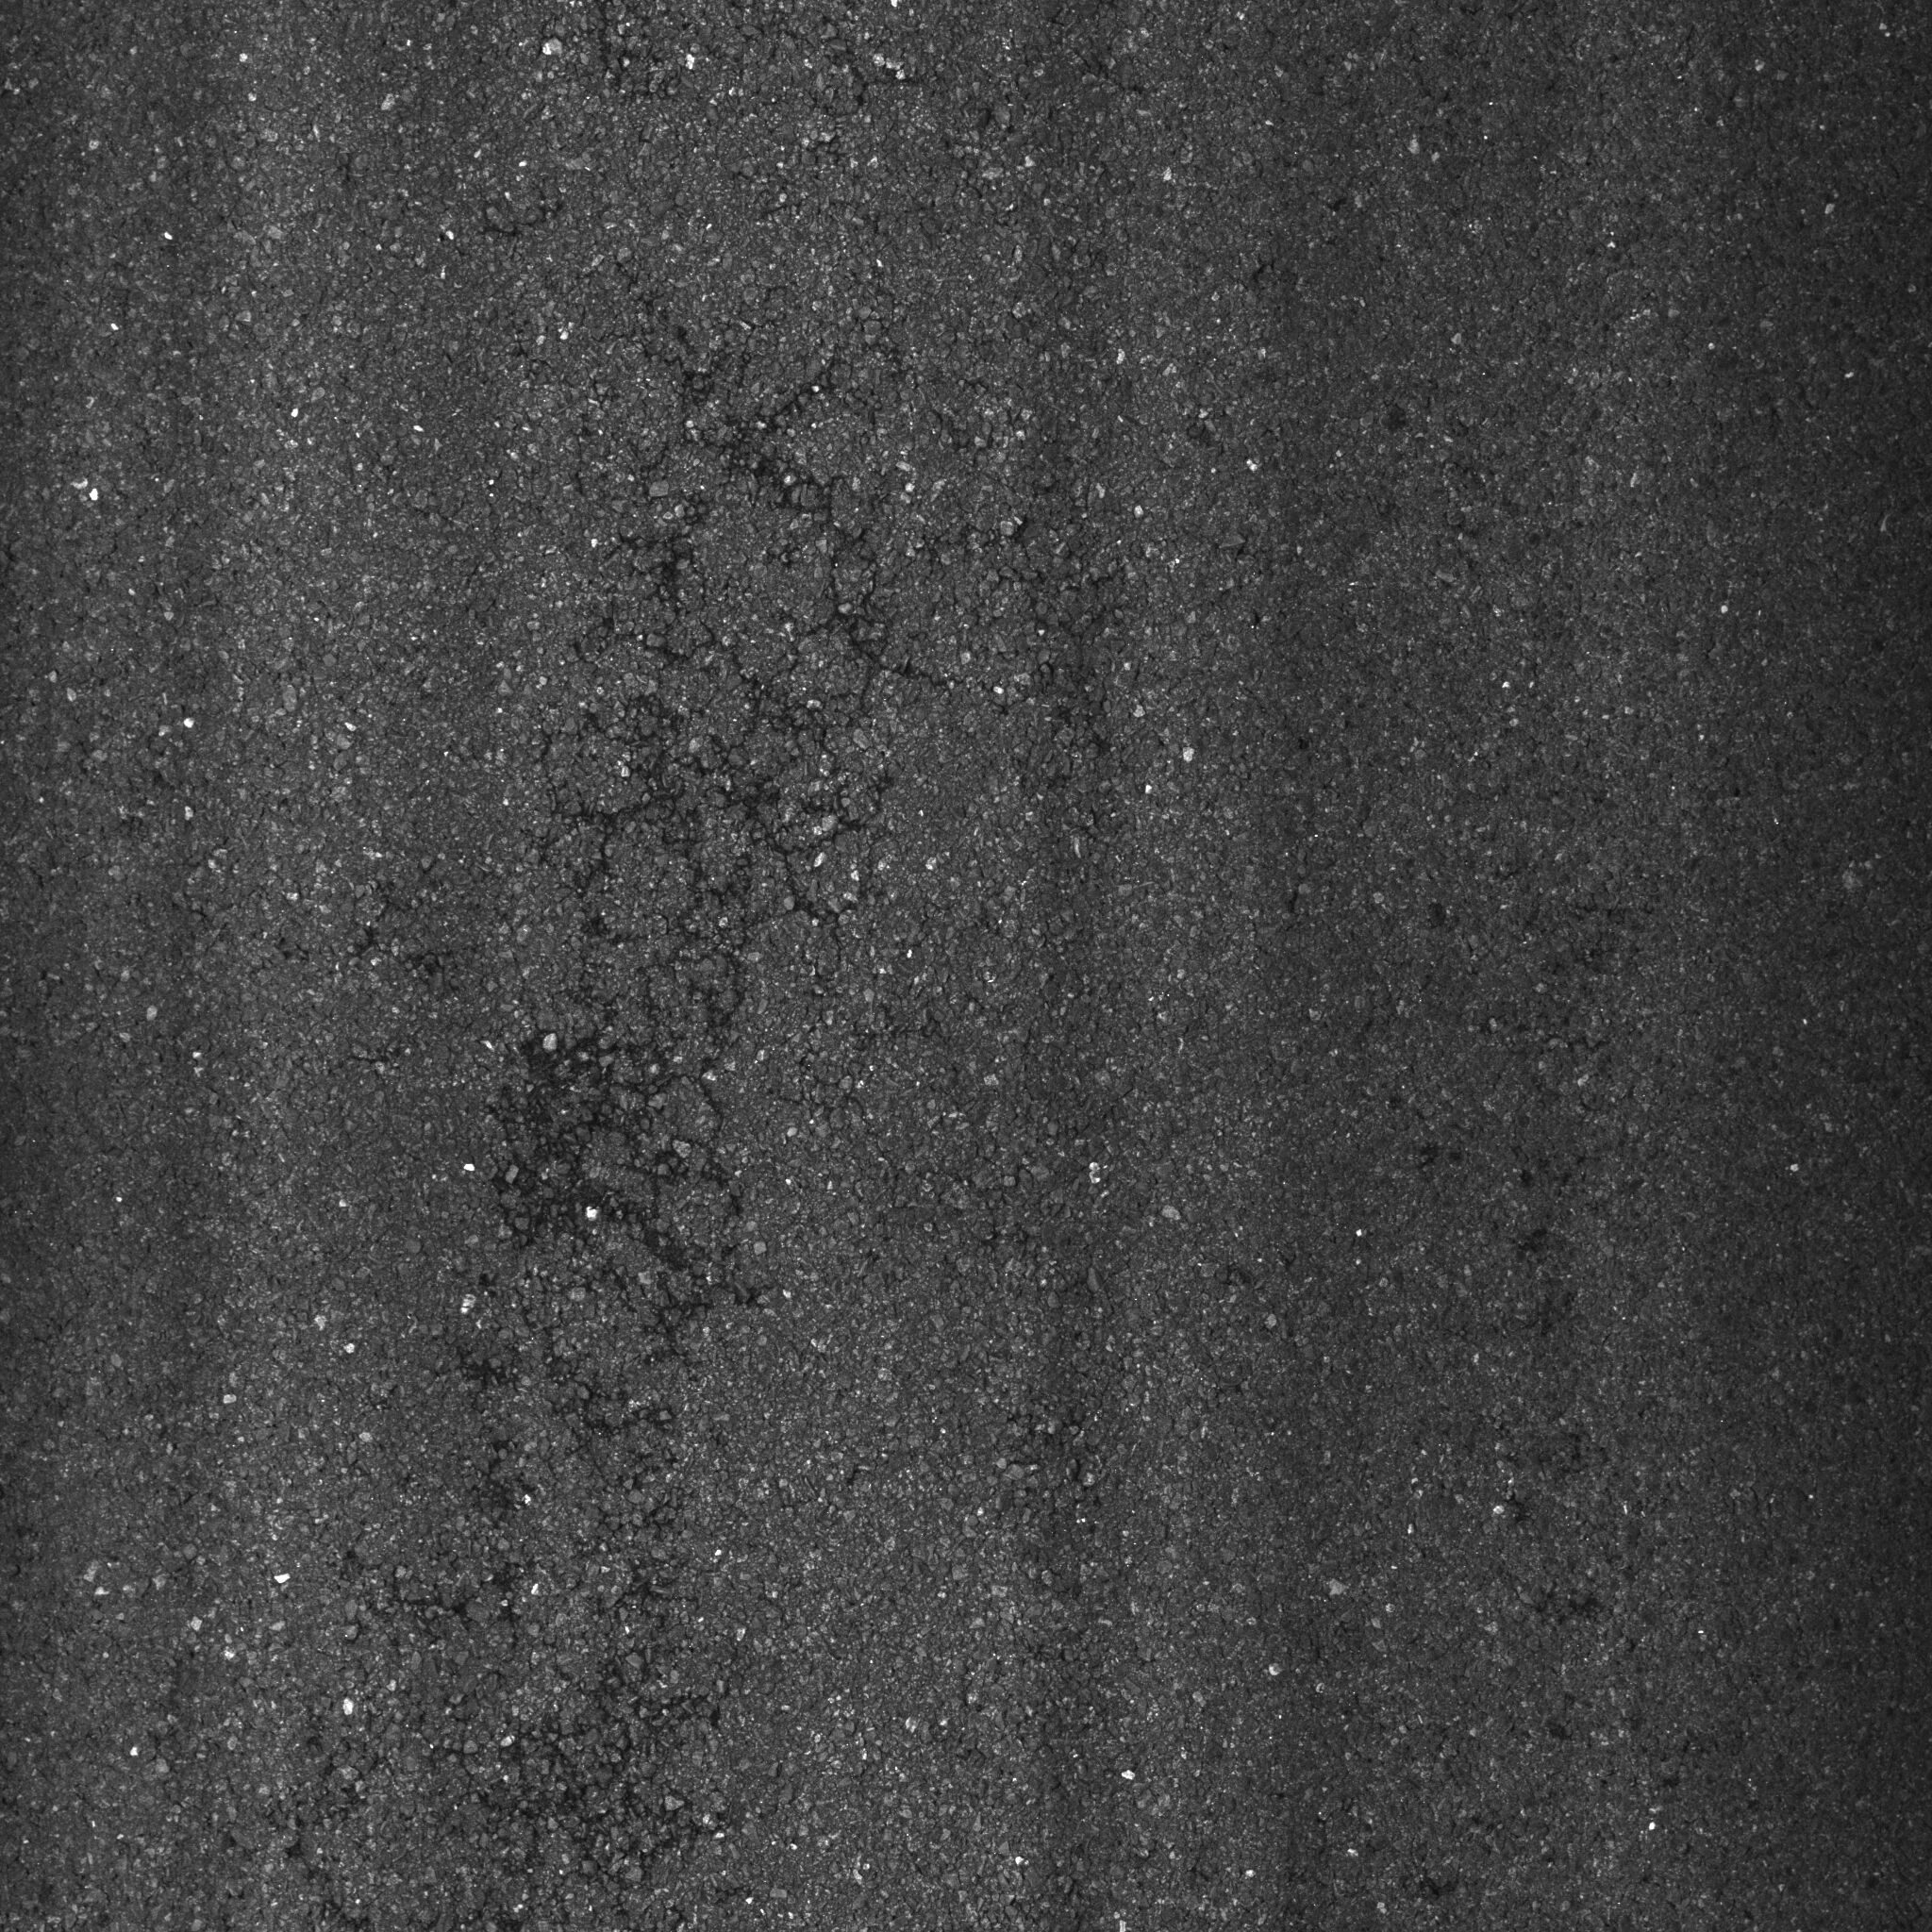alligator: (384, 225, 1083, 1610)
